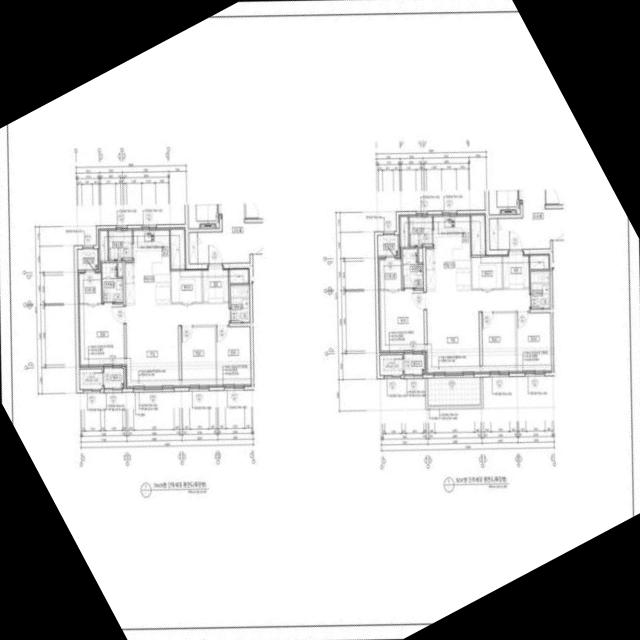background: (0, 0, 640, 640)
space_balconi: (404, 354, 424, 374), (103, 368, 123, 388)
space_bedroom: (378, 290, 424, 352), (78, 304, 124, 366), (481, 313, 516, 373), (516, 312, 551, 372)
space_dressroom: (77, 271, 101, 303), (378, 258, 401, 289)
space_elevator: (488, 190, 519, 214), (188, 204, 219, 228)
space_elevator_hall: (197, 204, 263, 263), (498, 189, 553, 249)
space_front: (202, 265, 228, 303), (503, 251, 529, 289)
space_kitchen: (425, 214, 471, 291), (125, 228, 170, 306)
space_living_room: (425, 289, 529, 374), (125, 303, 229, 388)
space_multipurpose_space: (216, 327, 251, 386), (181, 327, 215, 387), (108, 228, 132, 260), (409, 214, 432, 246)
space_other: (471, 255, 502, 288), (171, 269, 201, 302), (471, 213, 486, 255), (170, 227, 185, 269), (79, 368, 102, 389), (379, 354, 402, 375), (229, 268, 249, 283), (399, 215, 408, 247), (98, 229, 107, 261), (530, 254, 549, 269), (489, 218, 498, 249), (189, 232, 197, 263), (418, 248, 423, 262), (118, 262, 122, 276)
space_outdoor_room: (377, 235, 398, 256), (77, 249, 97, 270)
space_toilet: (402, 248, 423, 288), (102, 263, 122, 302), (530, 270, 550, 308), (230, 284, 249, 322)
